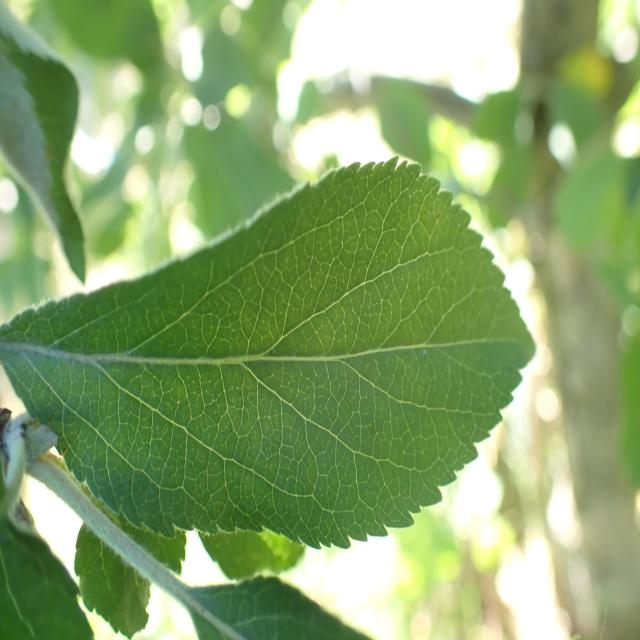healthy: (0, 154, 538, 550), (0, 28, 87, 289), (188, 574, 373, 640)
